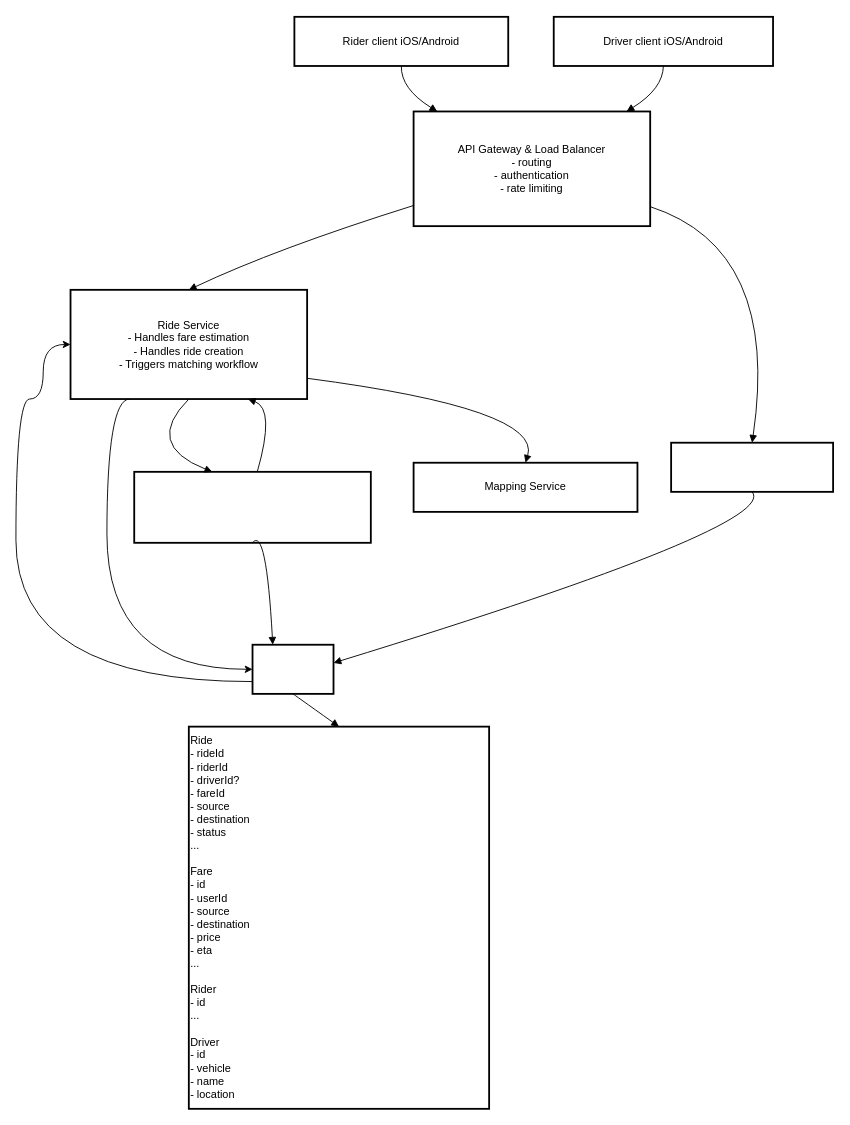
This 850x1125 diagram has some shape labels left out. The shapes that lost their labels are listed below. From the top down, each one's centre as x and y in pixels, then its label:
At (752,466): "Location Service".
At (252,506): "Ride Matching Service - Matches drivers and riders".
At (292,668): "DB".
